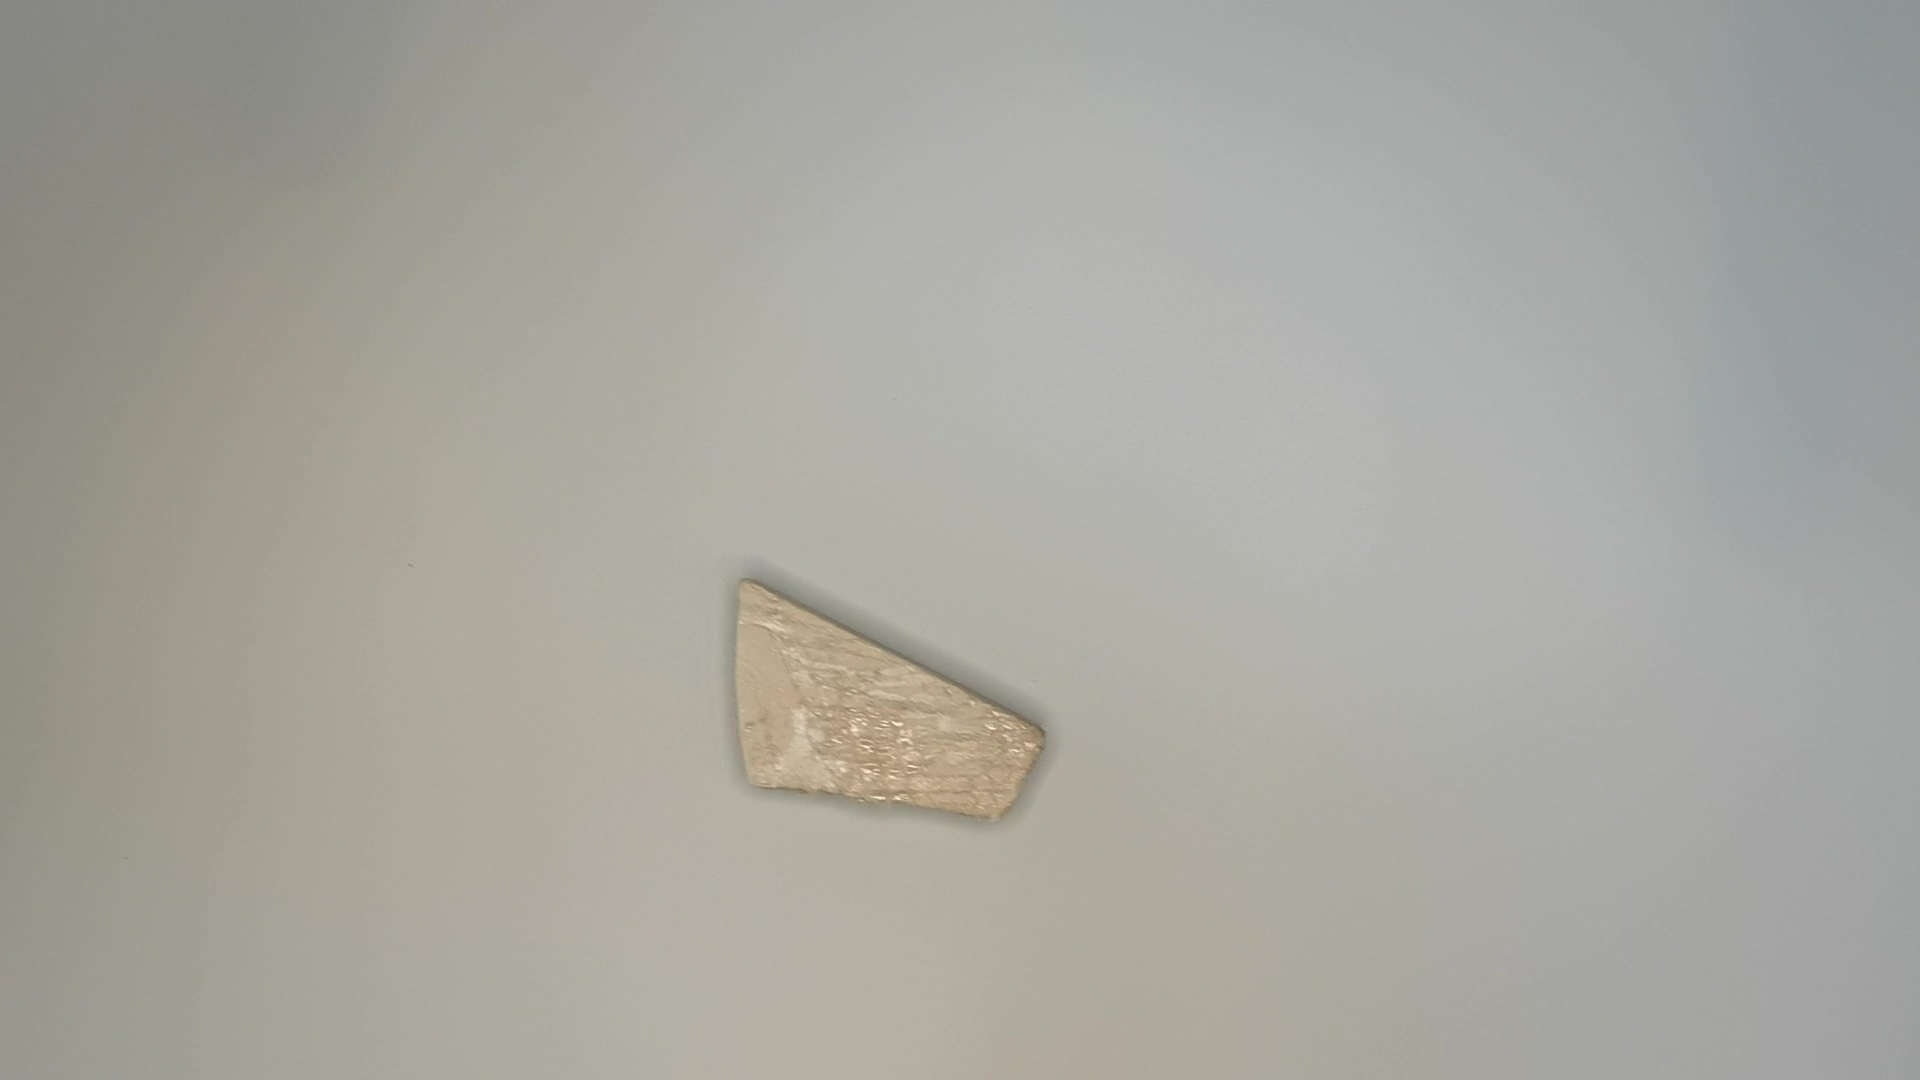ceramic: (723, 572, 1059, 829)
